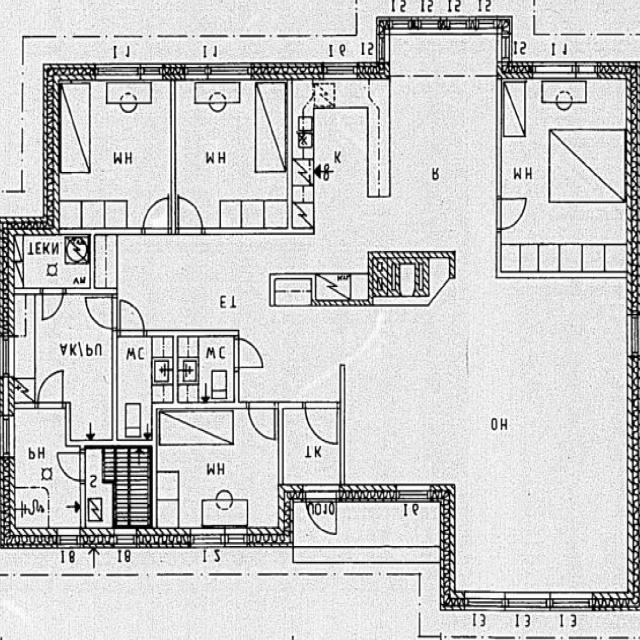door: (306, 484, 336, 539), (306, 402, 337, 447), (248, 402, 275, 440), (143, 197, 169, 234), (497, 199, 528, 230), (178, 198, 203, 234), (87, 298, 117, 328), (38, 372, 63, 408), (120, 301, 144, 336), (58, 452, 86, 481), (234, 339, 263, 367), (42, 288, 63, 319)
